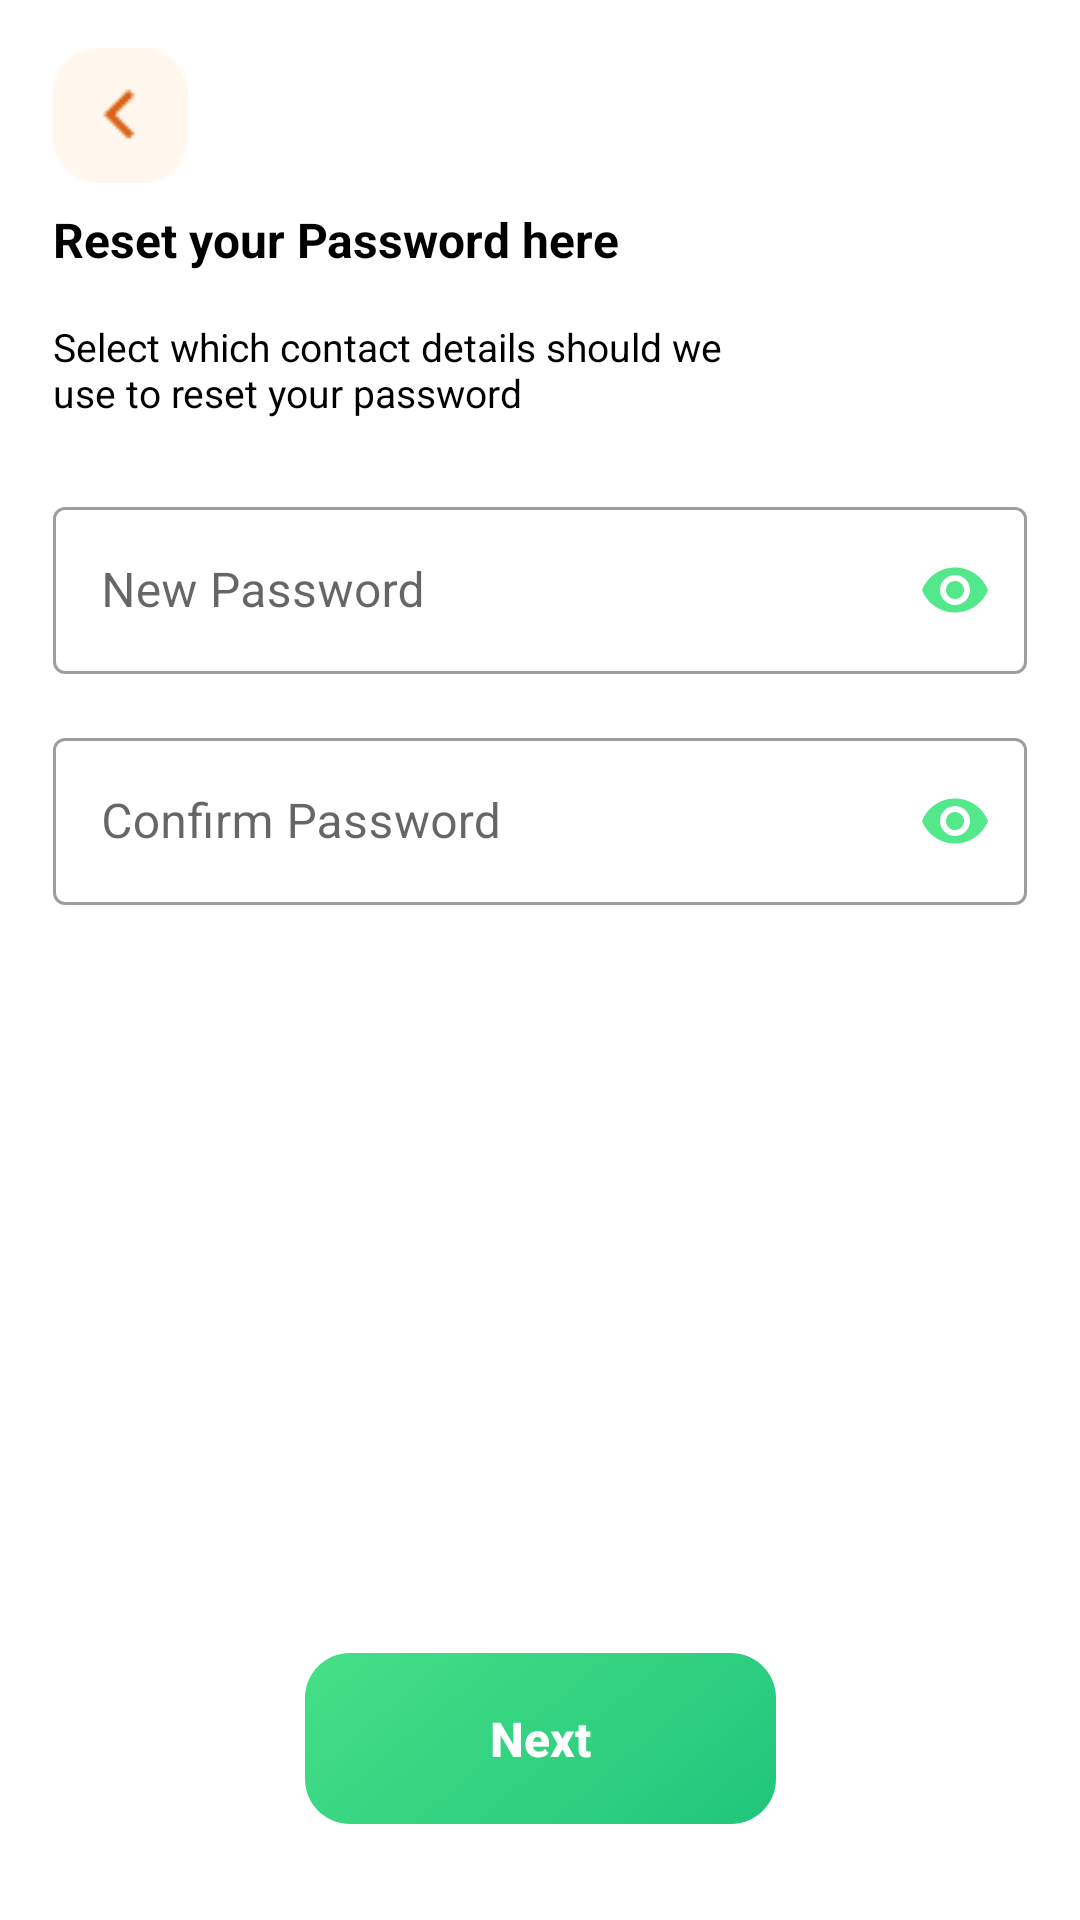

Icons on this 1080px×1920px Android screen, each with its box as [x1, y1, x2, y2]:
iconback: [103, 89, 135, 141]
